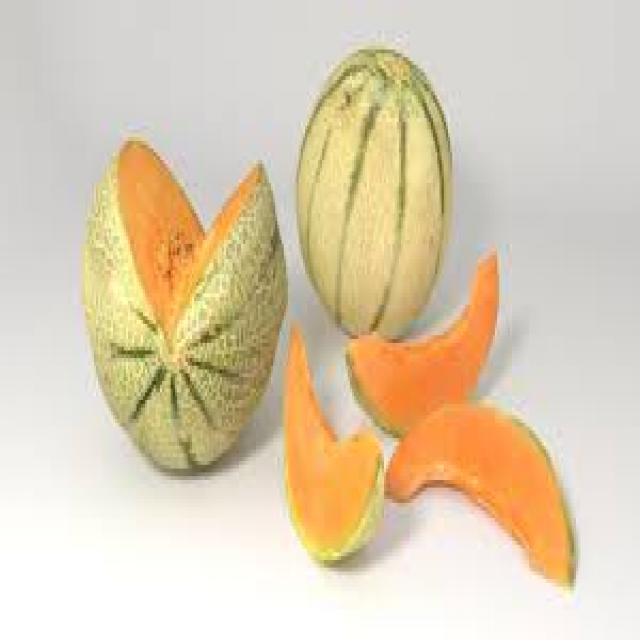organic waste: (79, 134, 286, 472), (292, 42, 448, 331), (380, 396, 574, 587), (344, 240, 497, 434), (277, 320, 384, 564)
